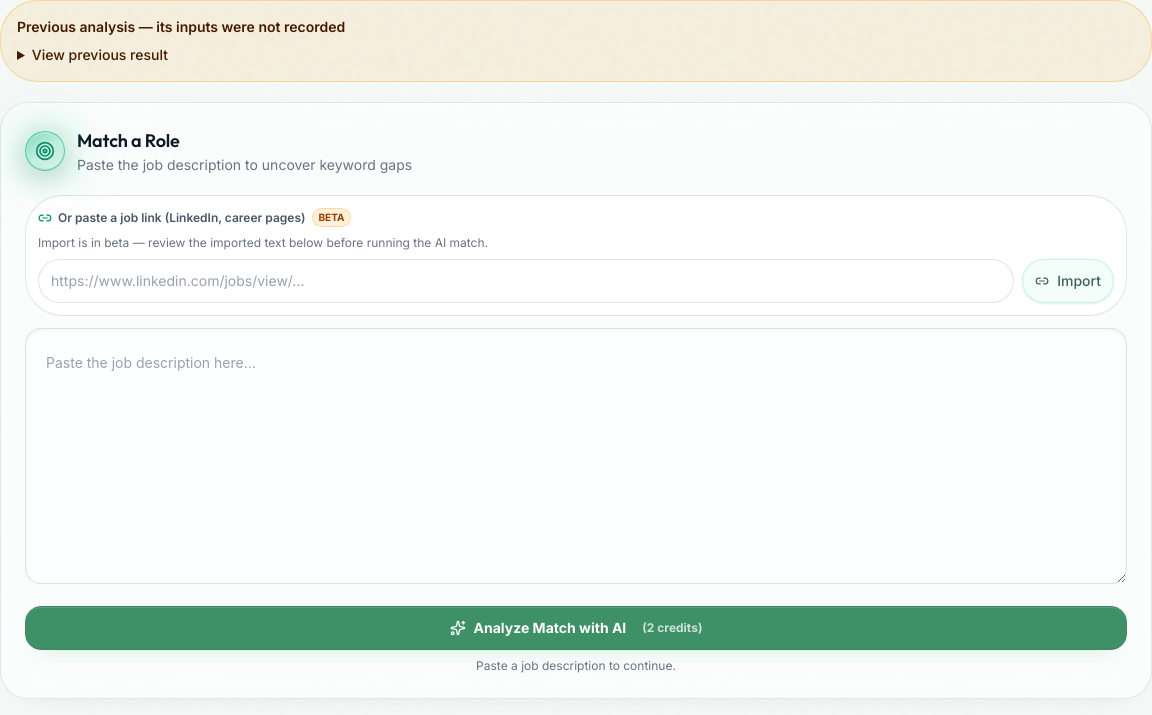
MatchSection signed-in users never take the guest free-run path › keeps a legacy result inspectable without presenting it as the active match
Expected: the text "Previous analysis — its inputs were not recorded" is shown, [17,18,345,35]
Click the heading "View previous result": [100, 54] box [32,46,168,63]
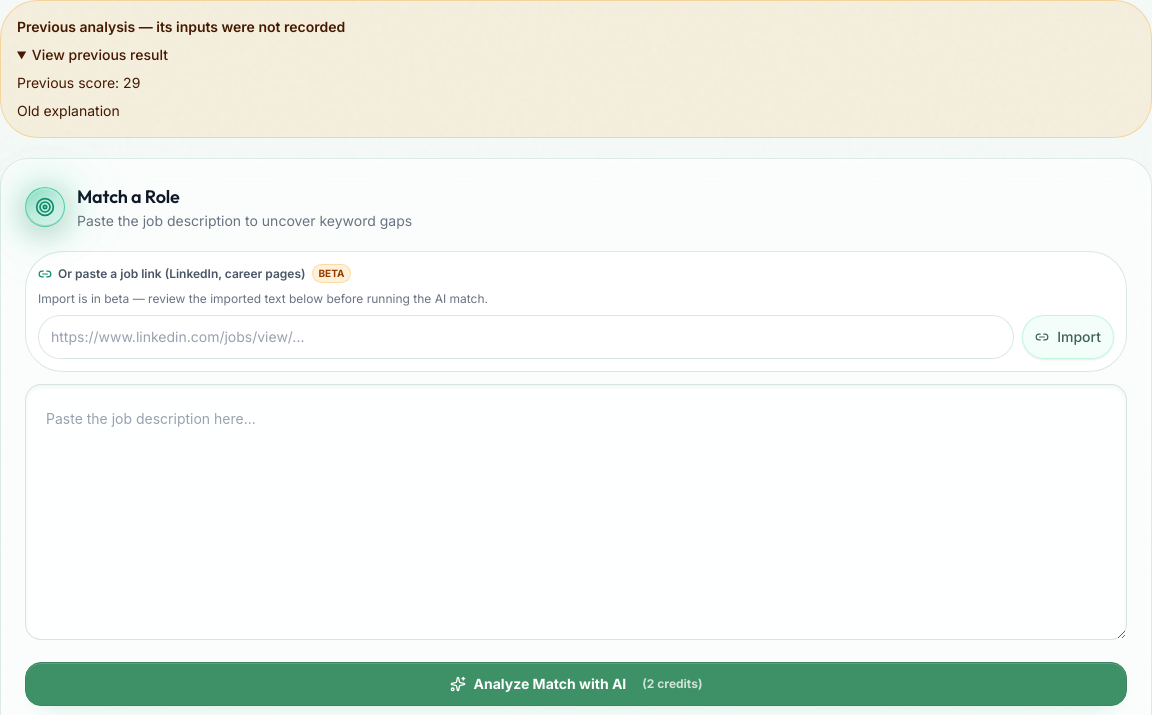
Expected: the text box with id "jobDescription" is shown, [25,384,1127,640]
Expected: the text "Old explanation" is shown, [17,102,120,119]
